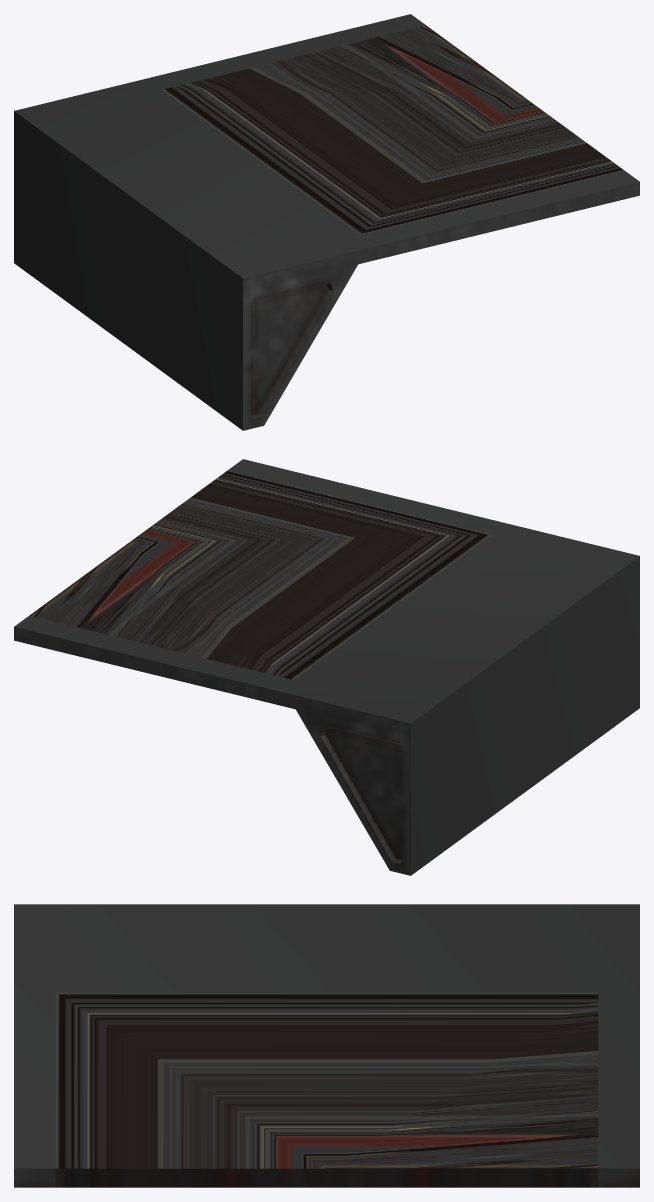
Rendered from Ceiling_02.FBX.
3 views of the same model, one above another, from view 1: azimuth 30°, elevation 25°; view 2: azimuth 150°, elevation 25°; view 3: azimuth 270°, elevation 25° (orthographic). The views are drawn at different scales.
Parts seen in each view (by area): view 1: Ceiling_02; view 2: Ceiling_02; view 3: Ceiling_02.
Part boxes in pixels (left/top/right/bottom): Ceiling_02: left=14, top=14, right=639, bottom=430; Ceiling_02: left=14, top=459, right=639, bottom=875; Ceiling_02: left=14, top=904, right=639, bottom=1187.
Bounding box in the file's own units: 300 × 110 × 300.
